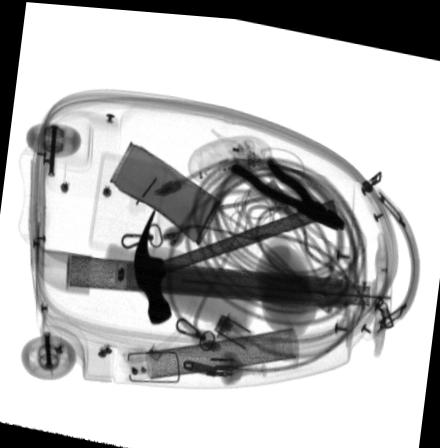Hammer: (132, 193, 337, 322)
Pliers: (229, 152, 345, 225)
